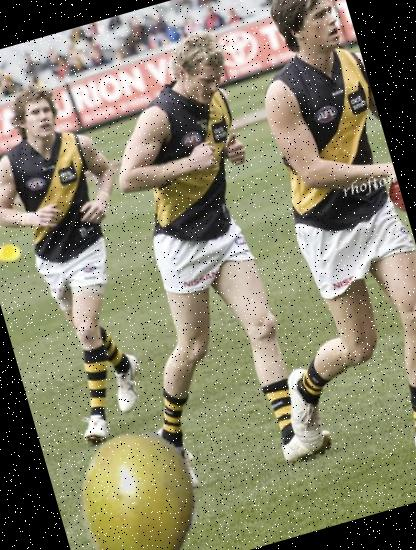Maracuja: (49, 413, 226, 550)
